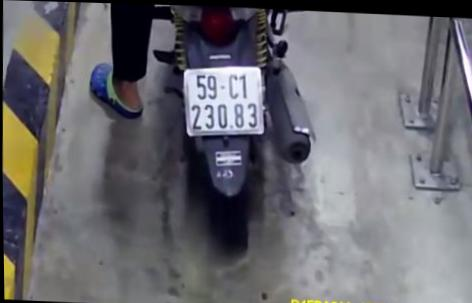LP: (181, 60, 266, 139)
